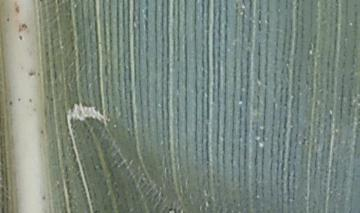tarspot: (26, 69, 37, 78), (40, 193, 47, 202), (17, 34, 24, 42), (20, 22, 28, 29), (167, 206, 175, 213), (7, 99, 13, 107), (38, 127, 44, 135), (27, 97, 34, 103), (5, 16, 10, 24), (38, 1, 46, 3)
